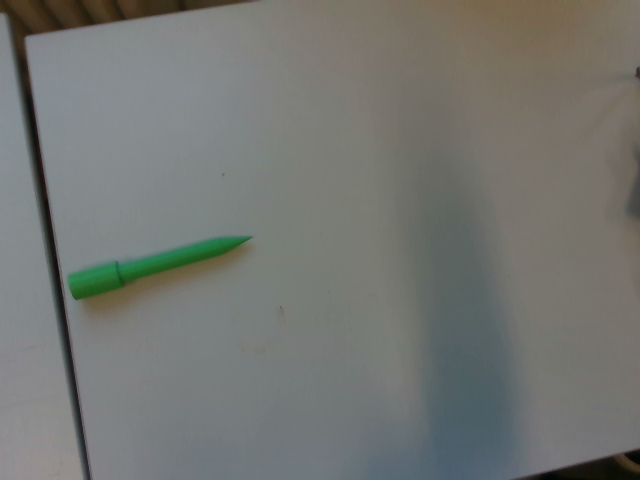Probe: (64, 230, 259, 306)
